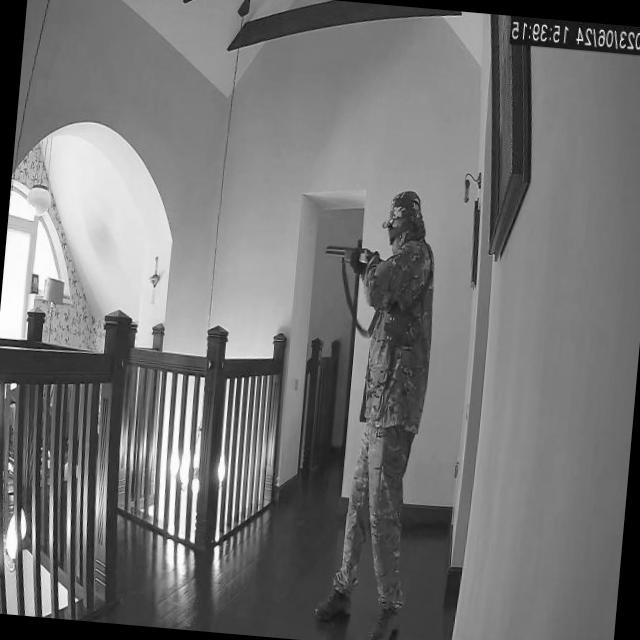gun: (319, 240, 385, 268)
person with a gun: (311, 183, 443, 640)
